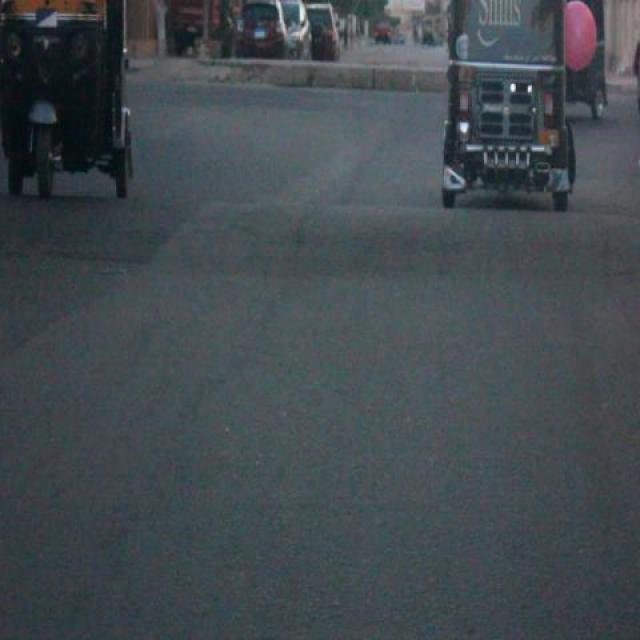Unmarked Bump: (1, 196, 640, 282)
